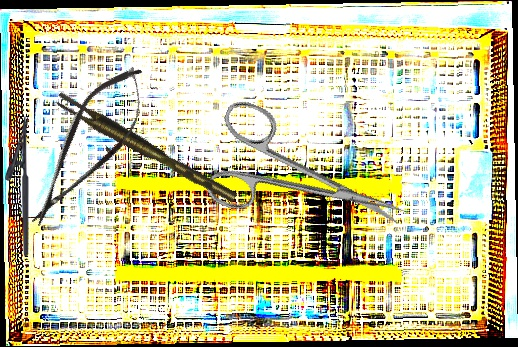Iris Scissors: (193, 96, 420, 269)
Micro Scissor: (11, 53, 165, 241)
Needle Holder: (5, 116, 29, 256)
Tissue Forceps: (53, 86, 238, 212)
